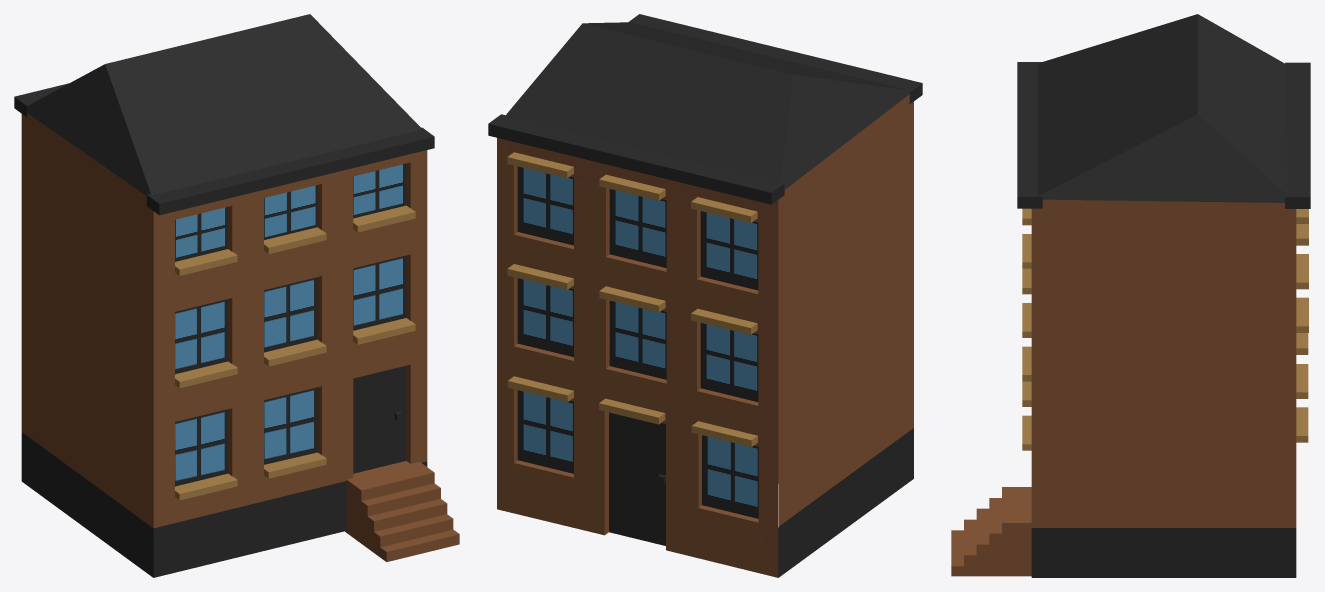
Rendered from JazzNormal2.obj.
3 renders of one model, left to right at view 1: azimuth 30°, elevation 25°; view 2: azimuth 150°, elevation 25°; view 3: azimuth 270°, elevation 25°, orthographic. The views are drawn at different scales.
Parts seen in each view (by area): view 1: ZwyklyJazz.001; view 2: ZwyklyJazz.001; view 3: ZwyklyJazz.001.
Part boxes in pixels (x1,y1,x2,y2): ZwyklyJazz.001: [14, 14, 459, 577]; ZwyklyJazz.001: [488, 14, 922, 577]; ZwyklyJazz.001: [951, 14, 1310, 577].
Size of the model in its own units: 6.06 by 9.37 by 6.79.
